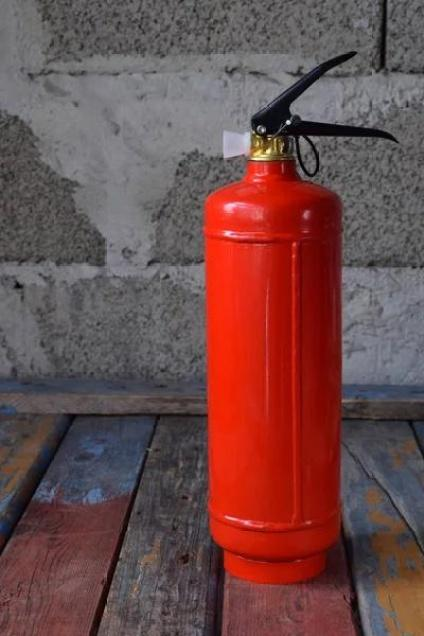APAR: (202, 49, 398, 584)
